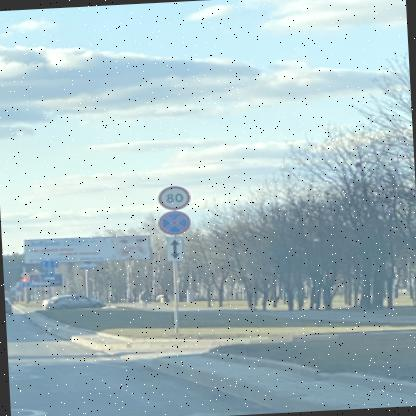speedlimit: (154, 184, 190, 210)
